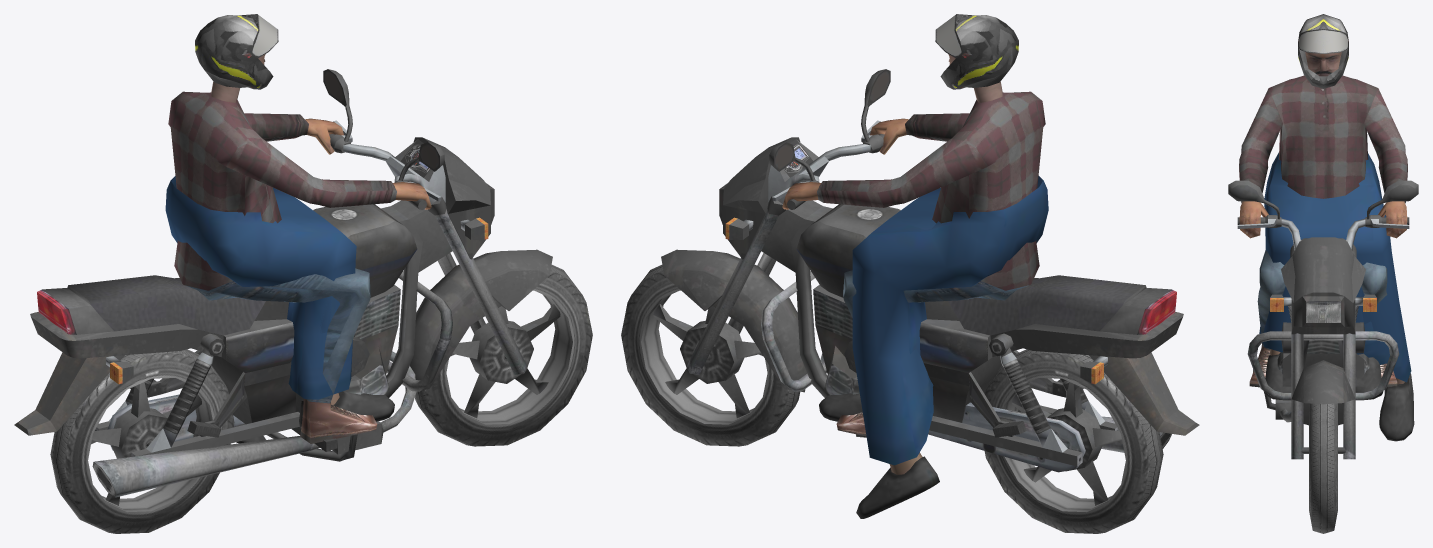
File: sf_motorbike_01.glb
3 renders of one model, left to right at view 1: azimuth 30°, elevation 25°; view 2: azimuth 150°, elevation 25°; view 3: azimuth 270°, elevation 25°, orthographic. The views are drawn at different scales.
Visible parts, largest first — view 1: traffic_motorbike_01, LegUp, traffic_motorbike_01_Rear_traffic_motorbike_01_component_0, traffic_motorbike_01_Front_traffic_motorbike_01_component_0, traffic_motorbike_01_Front_traffic_motorbike_01_body_0, LegDown, traffic_motorbike_01_Rear_traffic_motorbike_01_body_0, traffic_motorbike_01_light_rear; view 2: traffic_motorbike_01, LegDown, traffic_motorbike_01_Rear_traffic_motorbike_01_component_0, traffic_motorbike_01_Front_traffic_motorbike_01_component_0, traffic_motorbike_01_Front_traffic_motorbike_01_body_0, LegUp, traffic_motorbike_01_Rear_traffic_motorbike_01_body_0, traffic_motorbike_01_light_rear; view 3: traffic_motorbike_01, LegDown, LegUp, traffic_motorbike_01_Front_traffic_motorbike_01_component_0, traffic_motorbike_01_light.
Boxes of the visible parts, x1,y1,x2,y2 form: traffic_motorbike_01: (14,14,552,497); LegUp: (169,176,394,421); traffic_motorbike_01_Rear_traffic_motorbike_01_component_0: (50,349,234,533); traffic_motorbike_01_Front_traffic_motorbike_01_component_0: (415,265,592,446); traffic_motorbike_01_Front_traffic_motorbike_01_body_0: (451,304,560,418); LegDown: (165,180,385,443); traffic_motorbike_01_Rear_traffic_motorbike_01_body_0: (91,382,201,505); traffic_motorbike_01_light_rear: (37,289,76,334); traffic_motorbike_01: (661,14,1199,472); LegDown: (852,176,1045,518); traffic_motorbike_01_Rear_traffic_motorbike_01_component_0: (984,349,1163,533); traffic_motorbike_01_Front_traffic_motorbike_01_component_0: (621,265,800,446); traffic_motorbike_01_Front_traffic_motorbike_01_body_0: (653,304,762,418); LegUp: (819,185,1048,421); traffic_motorbike_01_Rear_traffic_motorbike_01_body_0: (1012,382,1122,505); traffic_motorbike_01_light_rear: (1137,289,1176,334); traffic_motorbike_01: (1228,14,1418,459); LegDown: (1267,153,1414,441); LegUp: (1259,152,1383,399); traffic_motorbike_01_Front_traffic_motorbike_01_component_0: (1309,403,1337,533); traffic_motorbike_01_light: (1306,301,1340,322).
Size of the model in its own units: 2.05 by 1.69 by 0.7284.
4 materials, 4 textured.
